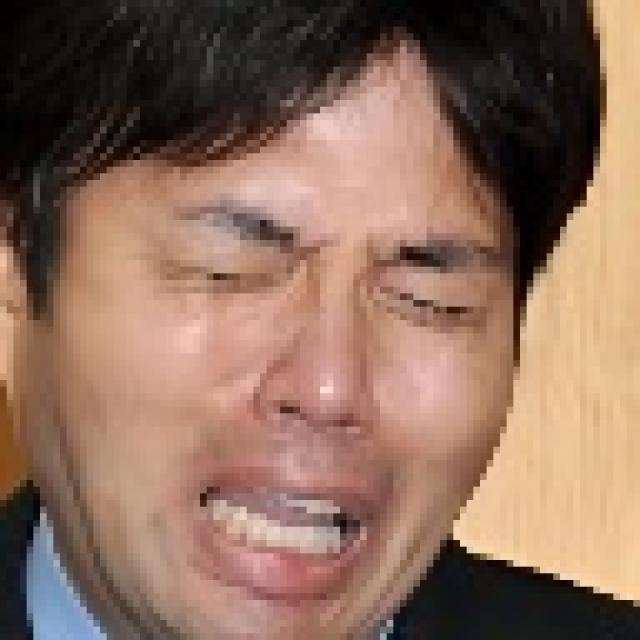sad: (0, 13, 560, 640)
